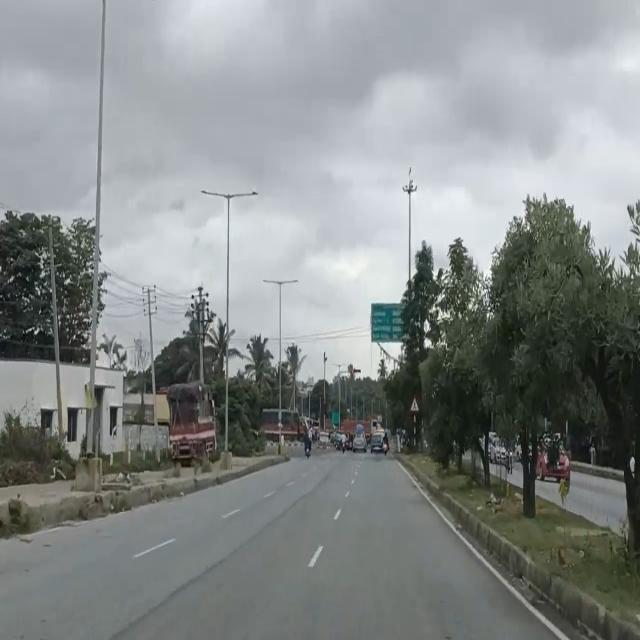bien_cam: (409, 394, 420, 414)
